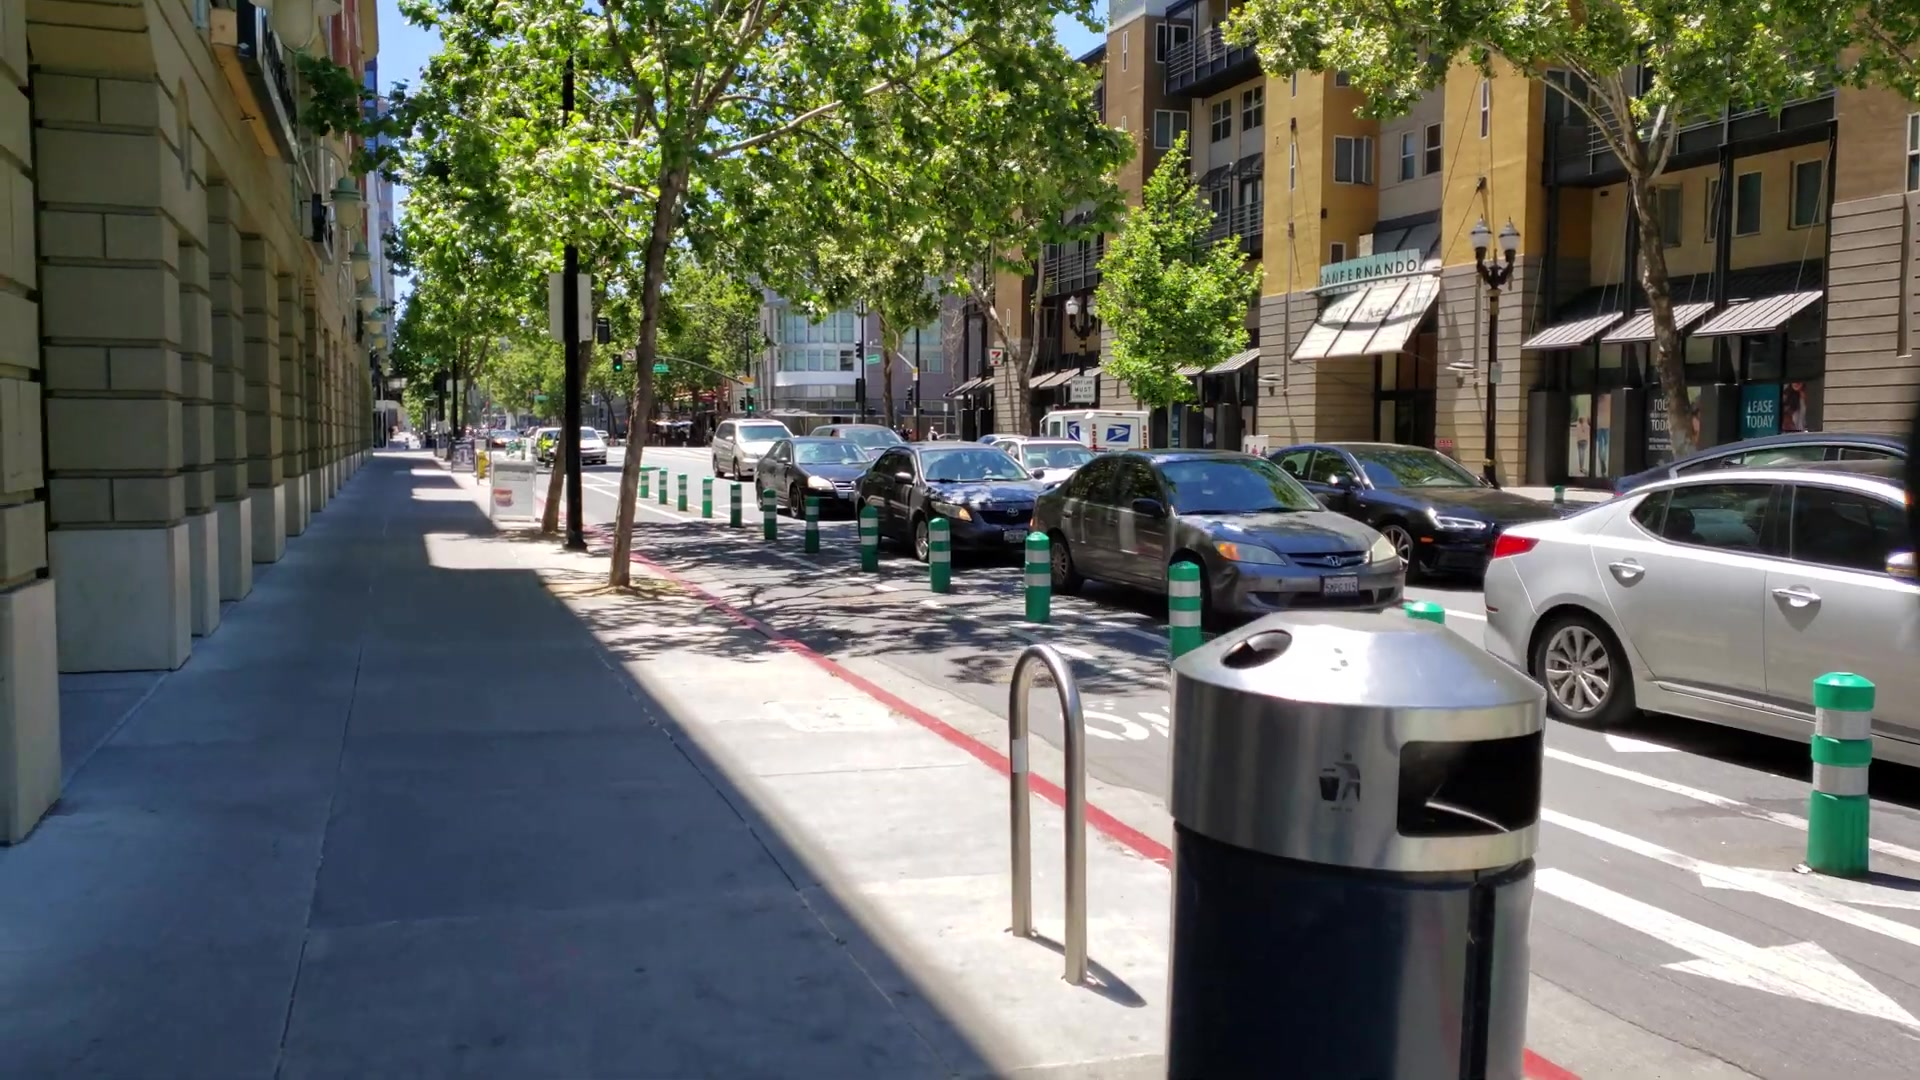vehicle: (1484, 475, 1919, 774), (1029, 454, 1411, 615), (857, 447, 1052, 562), (754, 439, 872, 517)
